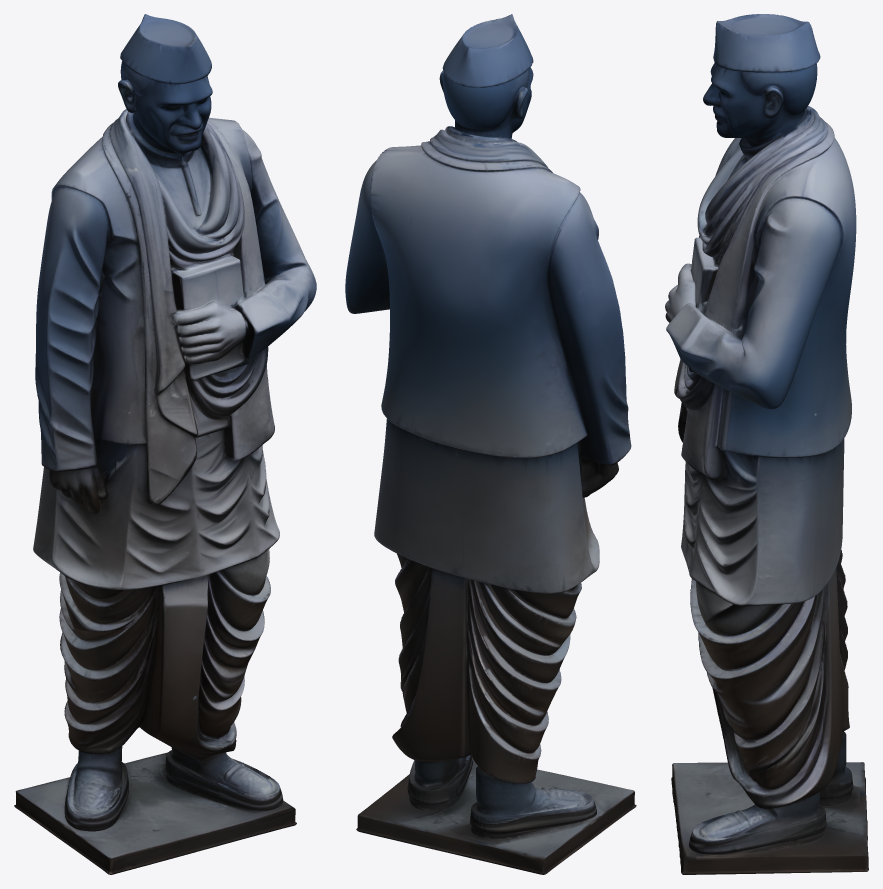
File: blood-components.glb
The picture shows the model from 3 angles, left to right: view 1: azimuth 30°, elevation 25°; view 2: azimuth 150°, elevation 25°; view 3: azimuth 270°, elevation 25°; orthographic projection. The views are drawn at different scales.
Parts seen in each view (by area): view 1: texture_pbr_v128; view 2: texture_pbr_v128; view 3: texture_pbr_v128.
Boxes of the visible parts, bbox=[...] form: texture_pbr_v128: bbox=[14, 14, 316, 874]; texture_pbr_v128: bbox=[345, 14, 636, 874]; texture_pbr_v128: bbox=[665, 14, 868, 874].
Size of the model in its own units: 0.2173 by 0.599 by 0.1366.
Materials: 1 (1 with a texture image).
